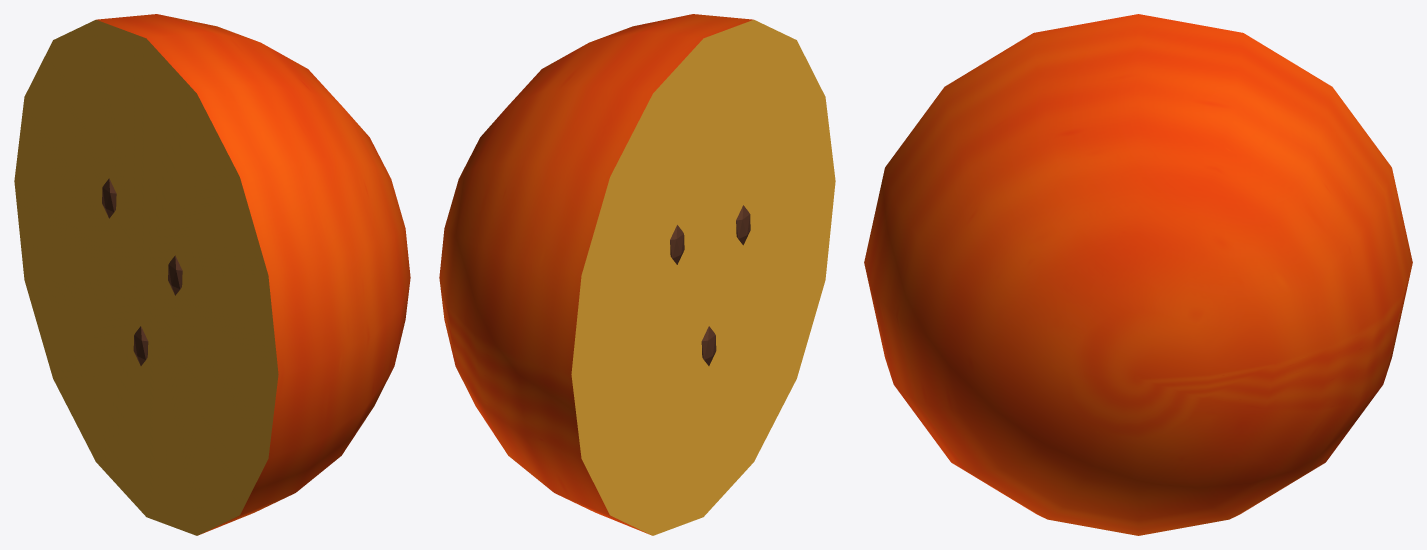
The model's file is orange_half.glb.
The picture shows the model from 3 angles, left to right: view 1: azimuth 30°, elevation 25°; view 2: azimuth 150°, elevation 25°; view 3: azimuth 270°, elevation 25°; orthographic projection. The views are drawn at different scales.
Parts seen in each view (by area): view 1: OrangeHalf_Body, OrangeHalf; view 2: OrangeHalf_Body, OrangeHalf; view 3: OrangeHalf_Body.
Part boxes in pixels (left/top/right/bottom): OrangeHalf_Body: left=14, top=14, right=410, bottom=535; OrangeHalf: left=102, top=178, right=182, bottom=365; OrangeHalf_Body: left=439, top=14, right=835, bottom=535; OrangeHalf: left=670, top=205, right=750, bottom=365; OrangeHalf_Body: left=864, top=14, right=1412, bottom=535.
Size of the model in its own units: 0.52 by 1 by 1.
Materials: 3 (1 with a texture image).
